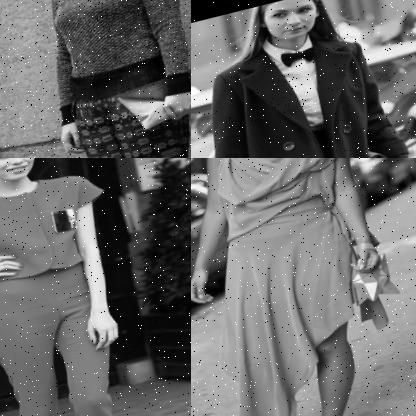dress: (191, 158, 414, 416)
jacket: (191, 18, 416, 158)
pants: (0, 256, 144, 416), (61, 52, 191, 158)
polar: (24, 0, 191, 126)
shirt: (0, 163, 123, 298)
